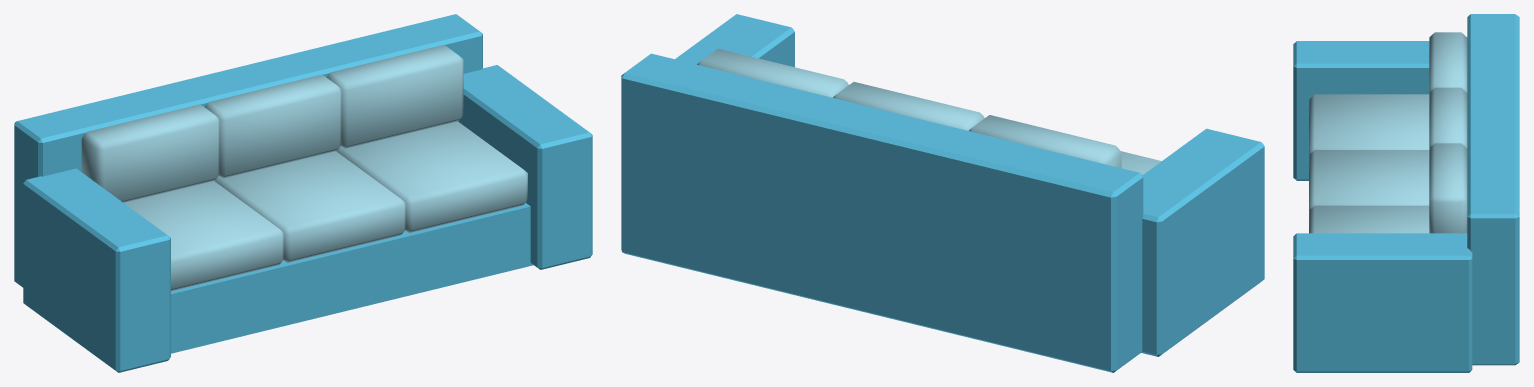
Rendered from sofa-hospital.fbx.
3 renders of one model, left to right at view 1: azimuth 30°, elevation 25°; view 2: azimuth 150°, elevation 25°; view 3: azimuth 270°, elevation 25°, orthographic. The views are drawn at different scales.
Parts seen in each view (by area): view 1: sofa-hospital; view 2: sofa-hospital; view 3: sofa-hospital.
Part boxes in pixels (bbox=[...]): sofa-hospital: bbox=[14, 14, 592, 372]; sofa-hospital: bbox=[621, 14, 1264, 372]; sofa-hospital: bbox=[1293, 14, 1519, 372].
Size of the model in its own units: 431 by 140 by 189.
